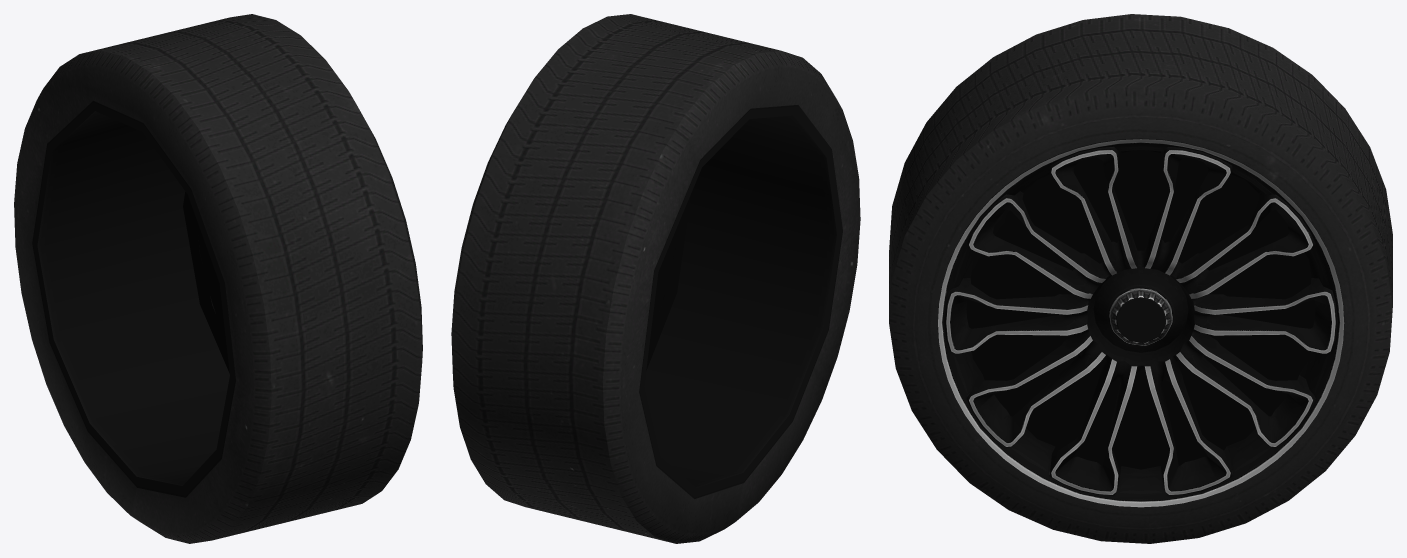
The model's file is RMCar01Wheel.FBX.
The picture shows the model from 3 angles, left to right: view 1: azimuth 30°, elevation 25°; view 2: azimuth 150°, elevation 25°; view 3: azimuth 270°, elevation 25°; orthographic projection.
Parts seen in each view (by area): view 1: RMCar01_Wheel_LOD0; view 2: RMCar01_Wheel_LOD0; view 3: RMCar01_Wheel_LOD0.
Boxes of the visible parts, x1,y1,x2,y2 form: RMCar01_Wheel_LOD0: [14, 14, 422, 543]; RMCar01_Wheel_LOD0: [451, 14, 860, 543]; RMCar01_Wheel_LOD0: [889, 14, 1392, 543].
Size of what is drawn, in the model's own units: 28.05 by 68.77 by 68.77.
